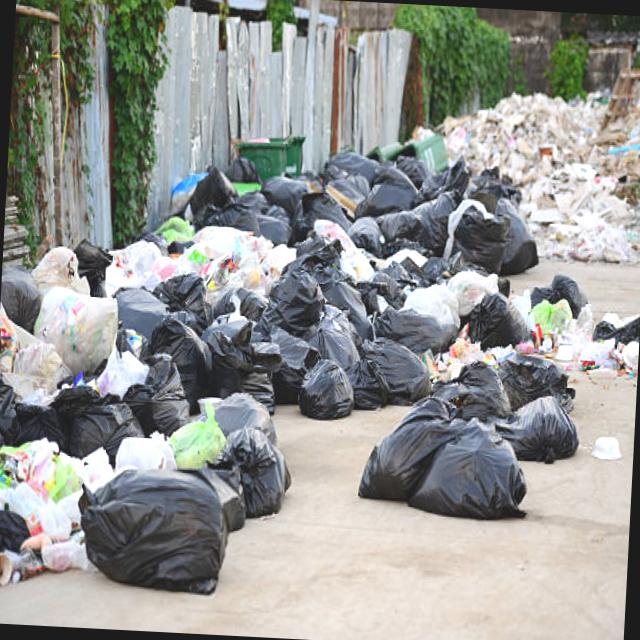garbage: (0, 60, 628, 621)
